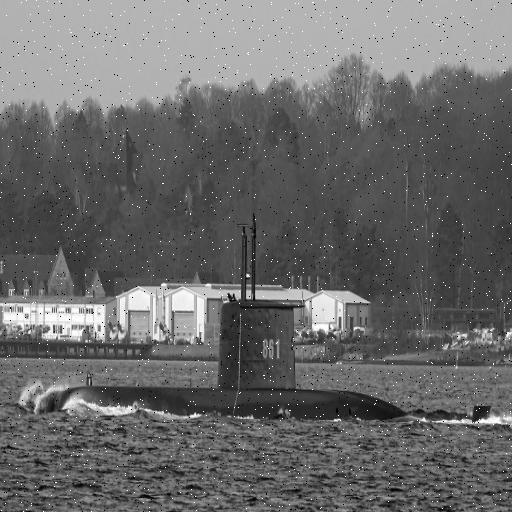submarine: (43, 214, 494, 425)
